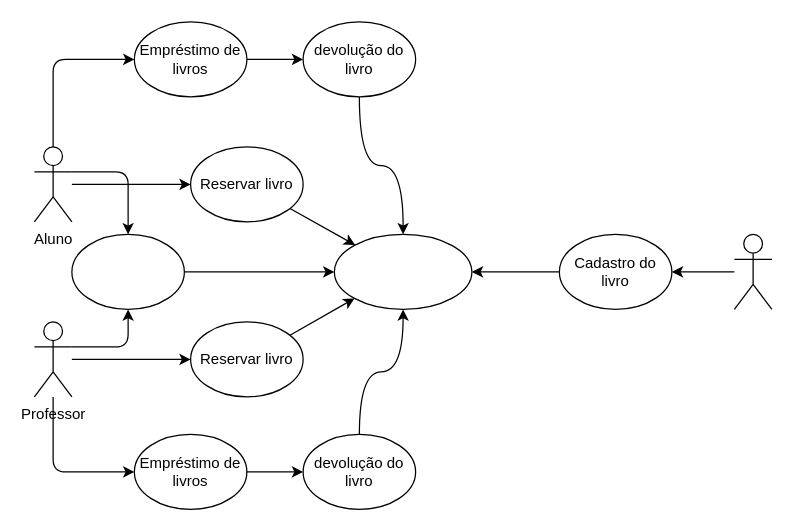
The diagram is 809 pixels wide and 531 high, and some of its shapes have lost their labels. Each missing label, with the centre of its shape:
"Atendente" belongs at (752,271).
"Consultar o livro" belongs at (127,271).
"Livros disponíveis para empréstimo" belongs at (402,271).
